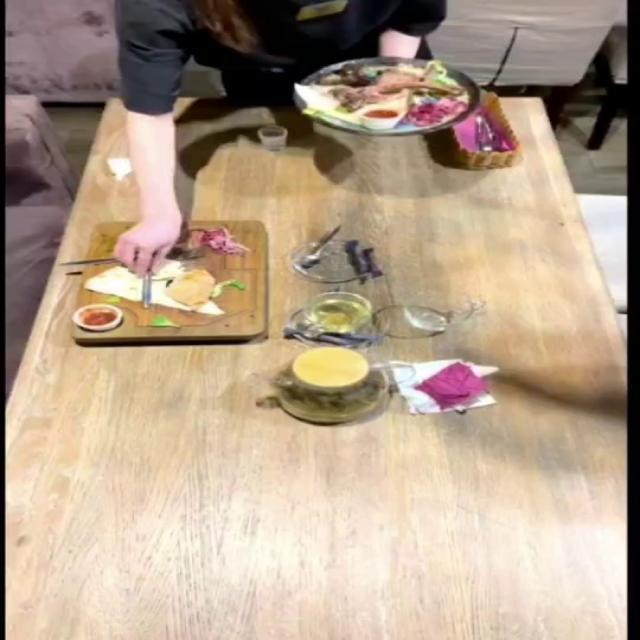meat: (298, 60, 470, 130)
tea: (281, 340, 429, 449)
